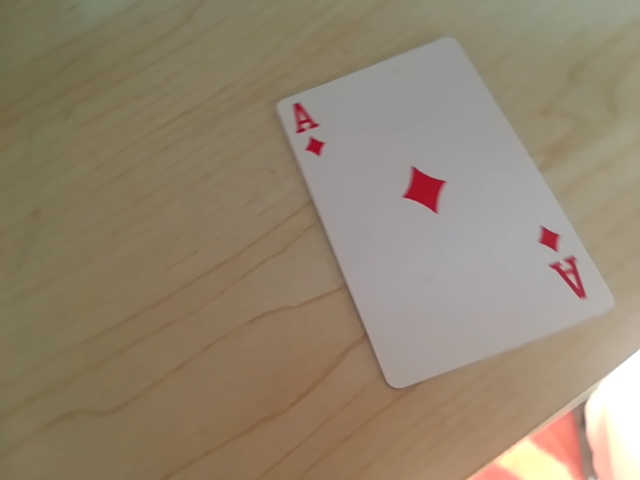fk a: (541, 223, 588, 306), (281, 98, 330, 161)
